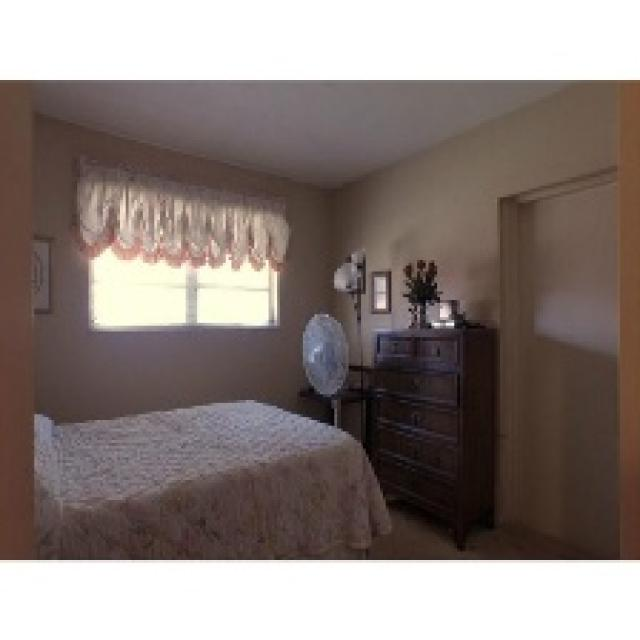Bed: (31, 397, 392, 557)
